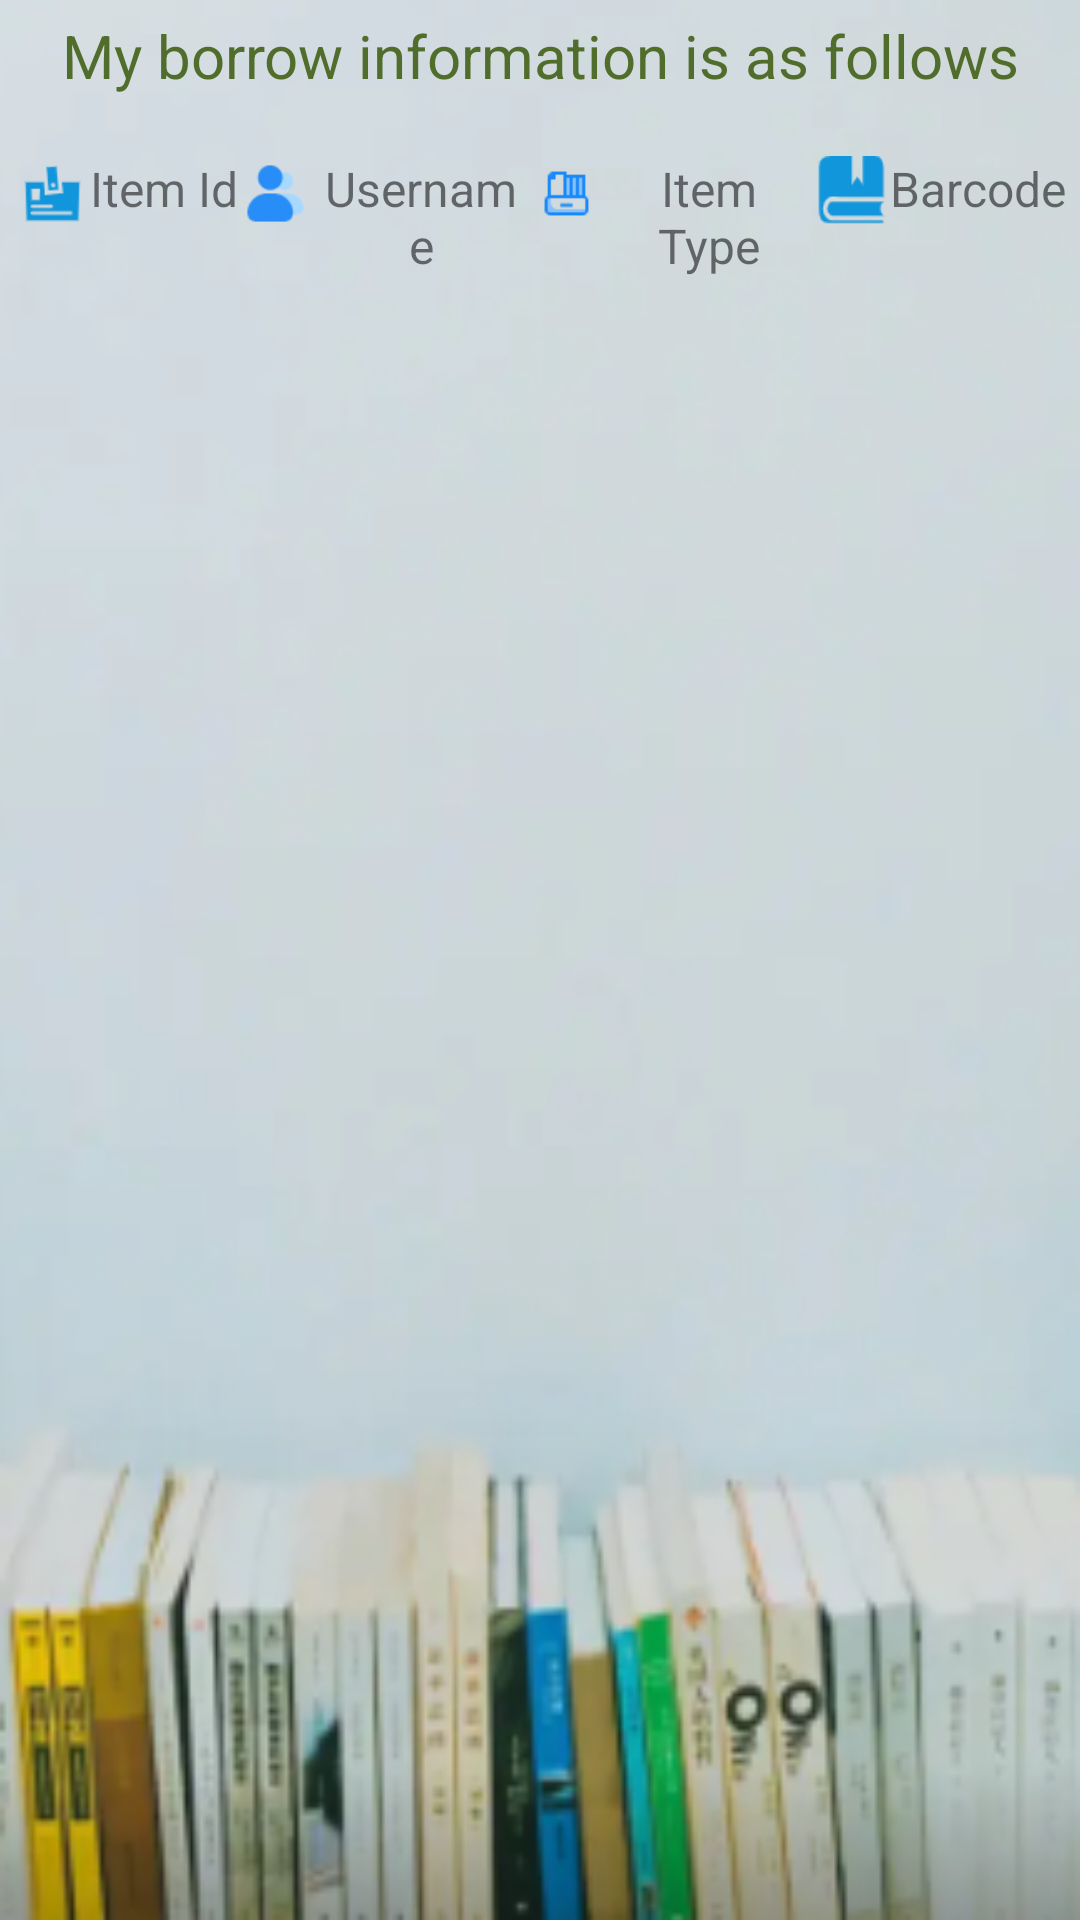

Named icons in this screenshot (1080x1920) and their bounding boxes, region(x1, y1, x2, y2):
book: region(818, 156, 885, 224)
